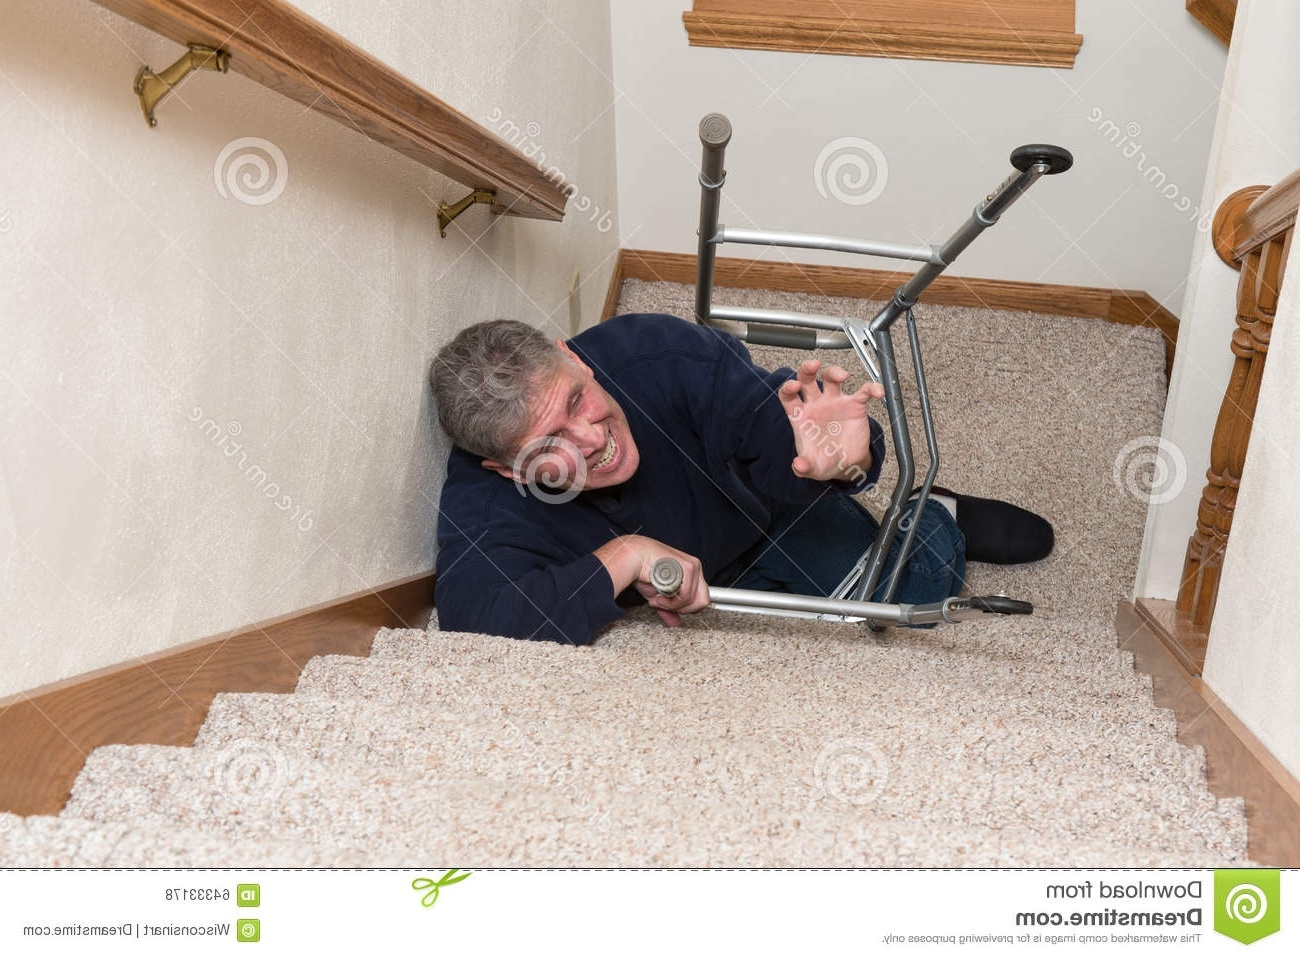fall: (399, 306, 1053, 639)
